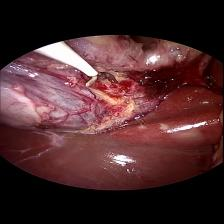Hook: (35, 38, 102, 86)
